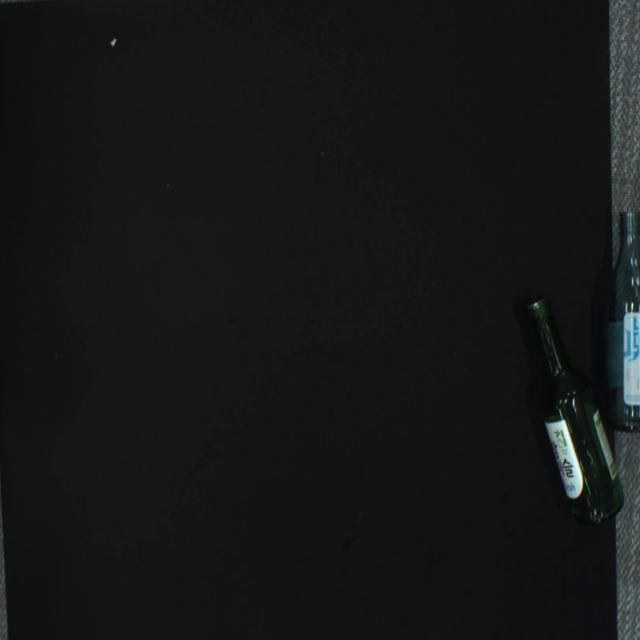soju-bottle: (528, 300, 624, 525), (604, 211, 640, 432)
